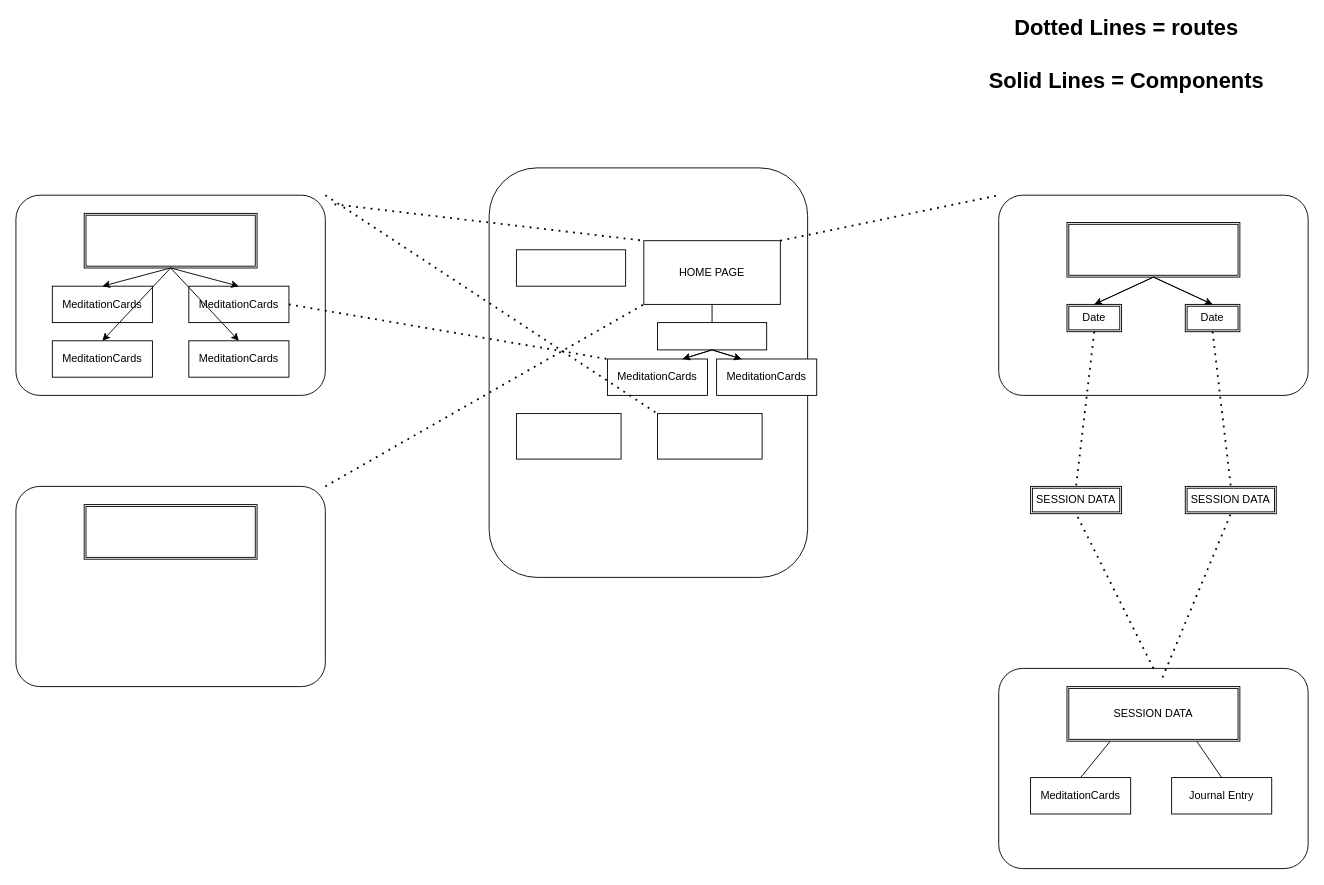
The diagram is 1324 pixels wide and 885 high, and some of its shapes have lost their labels. Here are the shapes that lost their labels. From the top down, the centre of each, then its label:
At [170,240]: "ALL MEDITATIONS LIST".
At [1153,249]: "CALENDAR".
At [571,267]: "NavBar (outlet in all routes)".
At [712,336]: "Recent Meditations list".
At [568,436]: "Customize Session (?)".
At [709,436]: "Meditations by Category".
At [170,531]: "LOGIN/LOGOUT".
